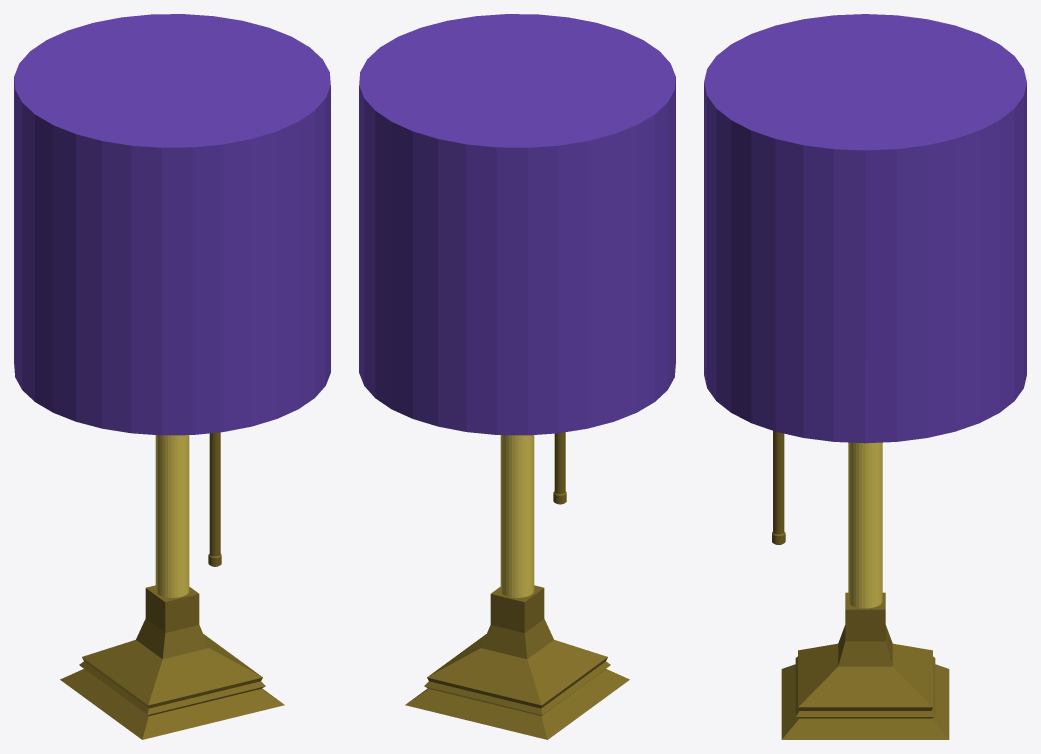
Rendered from lamp.fbx.
3 renders of one model, left to right at view 1: azimuth 30°, elevation 25°; view 2: azimuth 150°, elevation 25°; view 3: azimuth 270°, elevation 25°, orthographic.
Parts seen in each view (by area): view 1: lamp; view 2: lamp; view 3: lamp.
Boxes of the visible parts, x1,y1,x2,y2 form: lamp: [14, 14, 330, 739]; lamp: [359, 14, 675, 739]; lamp: [704, 14, 1026, 739].
Size of the model in its own units: 263 by 559 by 263.
